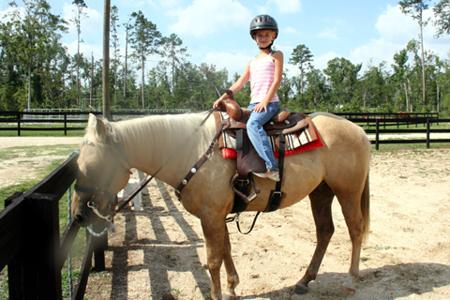person: (209, 13, 286, 184)
